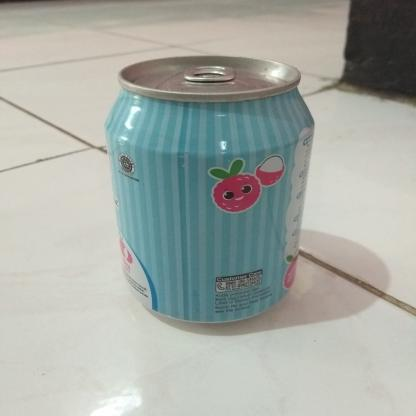mouse: (103, 51, 320, 328)
